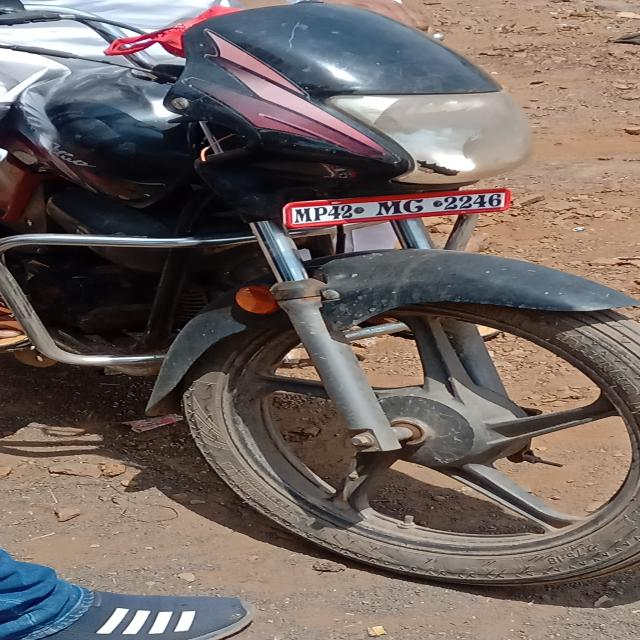Number_Plate_Detected: (282, 188, 512, 230)
